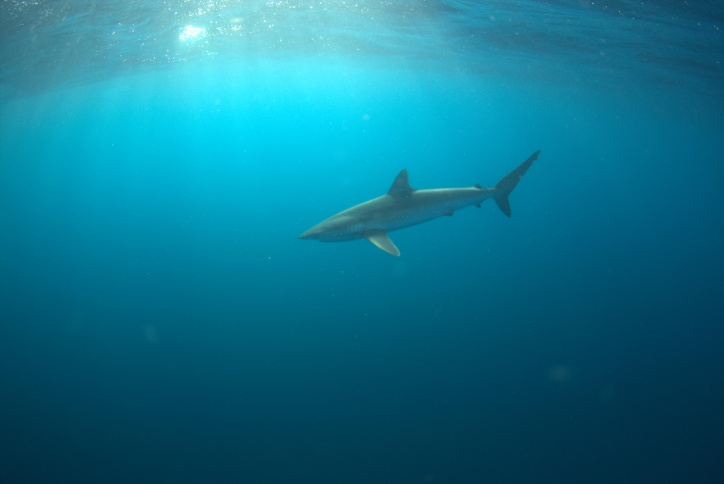Sedoso: (272, 140, 563, 266)
